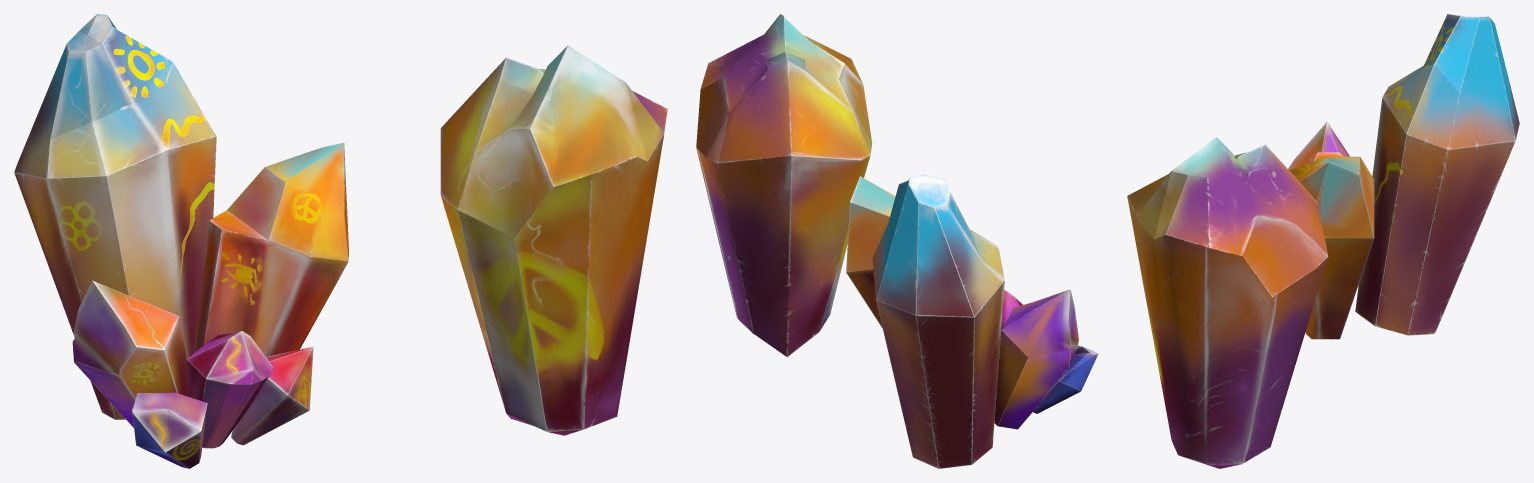
Rendered from Crystals.dae.
3 views of the same model, side by side, from view 1: azimuth 30°, elevation 25°; view 2: azimuth 150°, elevation 25°; view 3: azimuth 270°, elevation 25° (orthographic). The views are drawn at different scales.
Visible parts, largest first — view 1: Cylinder004.001, Cylinder004.005, Cylinder004.006, Cylinder004.004, Cylinder004.003, Cylinder004.002, Cylinder004; view 2: Cylinder004.001, Cylinder004.005, Cylinder004.004, Cylinder004.006, Cylinder004.002; view 3: Cylinder004.001, Cylinder004.005, Cylinder004.006, Cylinder004.004.
Part boxes in pixels (x1,y1,x2,y2): Cylinder004.001: (440, 45, 667, 435); Cylinder004.005: (14, 14, 216, 419); Cylinder004.006: (193, 142, 348, 356); Cylinder004.004: (72, 280, 188, 427); Cylinder004.003: (186, 331, 273, 448); Cylinder004.002: (132, 392, 207, 468); Cylinder004: (231, 346, 313, 445); Cylinder004.001: (696, 14, 872, 357); Cylinder004.005: (872, 174, 1004, 468); Cylinder004.004: (994, 289, 1078, 429); Cylinder004.006: (846, 176, 895, 328); Cylinder004.002: (1033, 346, 1098, 413); Cylinder004.001: (1127, 137, 1328, 468); Cylinder004.005: (1355, 14, 1519, 335); Cylinder004.006: (1290, 152, 1374, 339); Cylinder004.004: (1288, 122, 1349, 170).
Bounding box in the file's own units: 2.55 × 1.97 × 1.84.
